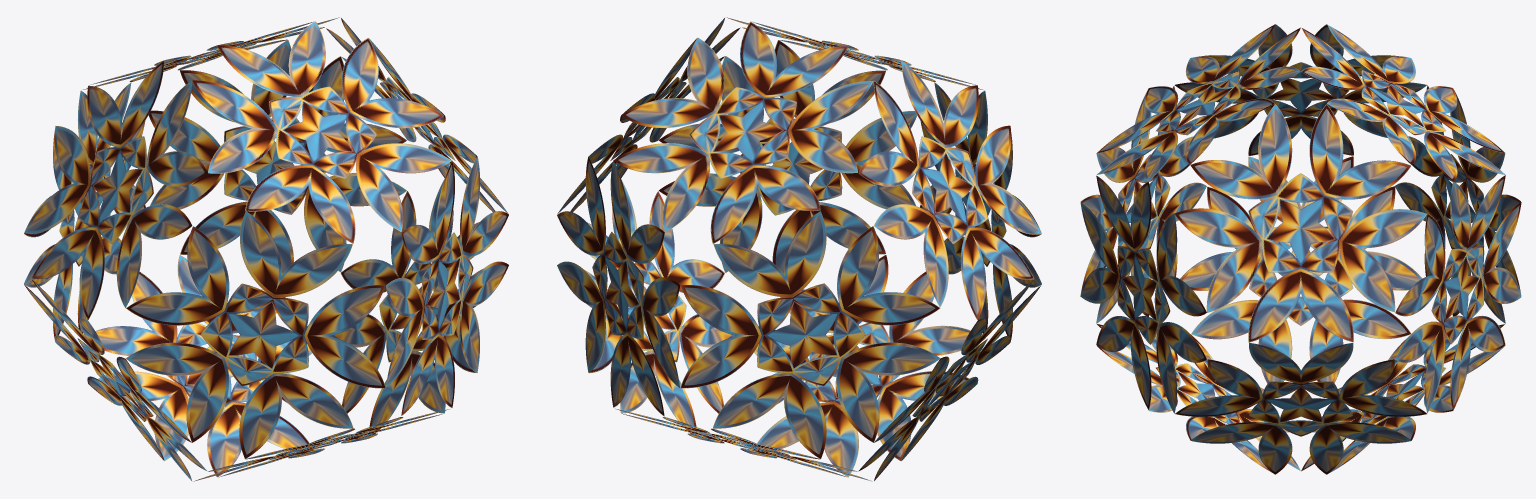
File: Dodecahedron1.obj
3 renders of one model, left to right at view 1: azimuth 30°, elevation 25°; view 2: azimuth 150°, elevation 25°; view 3: azimuth 270°, elevation 25°, orthographic. The views are drawn at different scales.
Size of the model in its own units: 2.62 by 2.62 by 2.62.
Materials: 1 (1 with a texture image).
